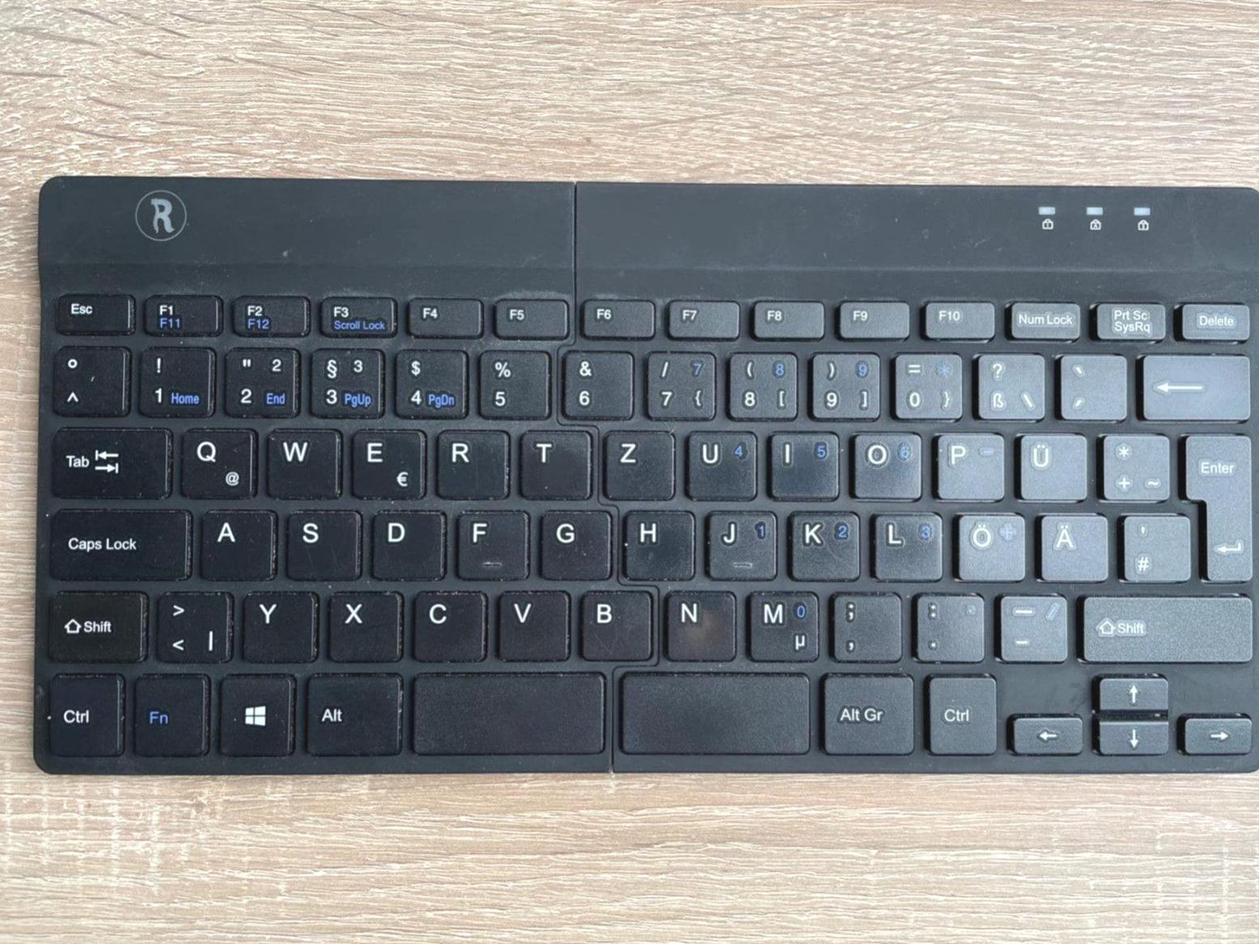0: (890, 348, 963, 419)
1: (135, 343, 213, 416)
2: (221, 343, 299, 416)
3: (305, 343, 384, 415)
4: (391, 343, 466, 417)
5: (473, 344, 548, 417)
6: (557, 346, 634, 418)
7: (642, 348, 714, 419)
8: (724, 348, 798, 419)
9: (806, 348, 881, 419)
a: (197, 504, 273, 579)
accent: (1054, 347, 1125, 418)
ae: (1036, 509, 1108, 580)
alt-left: (300, 670, 401, 755)
altgr-right: (817, 669, 914, 754)
b: (576, 585, 654, 660)
c: (408, 586, 486, 661)
caret: (49, 342, 125, 415)
comma: (827, 589, 901, 660)
d: (367, 505, 442, 579)
del: (1138, 349, 1252, 419)
e: (347, 425, 423, 498)
enter: (1179, 426, 1252, 581)
f: (452, 506, 526, 577)
g: (535, 504, 609, 578)
h: (618, 505, 693, 579)
hash: (1117, 509, 1189, 580)
i: (765, 427, 839, 497)
j: (702, 507, 776, 578)
k: (786, 507, 859, 580)
keyboard: (23, 169, 1259, 785)
l: (868, 508, 943, 580)
less: (152, 586, 230, 663)
m: (744, 587, 820, 661)
minus: (994, 591, 1068, 661)
n: (660, 585, 735, 660)
o: (848, 427, 922, 498)
oe: (953, 509, 1025, 580)
p: (930, 427, 1004, 499)
plus: (1096, 429, 1169, 499)
point: (910, 589, 984, 660)
q: (176, 424, 254, 498)
r: (431, 425, 508, 498)
s: (282, 505, 359, 579)
shift-left: (42, 585, 145, 662)
shift-lock: (43, 502, 188, 580)
shift-right: (1079, 590, 1253, 661)
space: (618, 666, 810, 756), (412, 667, 606, 756)
ss: (971, 347, 1043, 419)
strg-left: (43, 669, 120, 755)
strg-right: (922, 671, 998, 755)
t: (515, 424, 590, 498)
tab: (44, 421, 168, 499)
u: (681, 426, 757, 500)
ue: (1013, 428, 1087, 500)
v: (494, 585, 570, 661)
w: (262, 423, 337, 498)
x: (324, 586, 401, 661)
y: (240, 587, 316, 663)
z: (599, 424, 673, 499)
